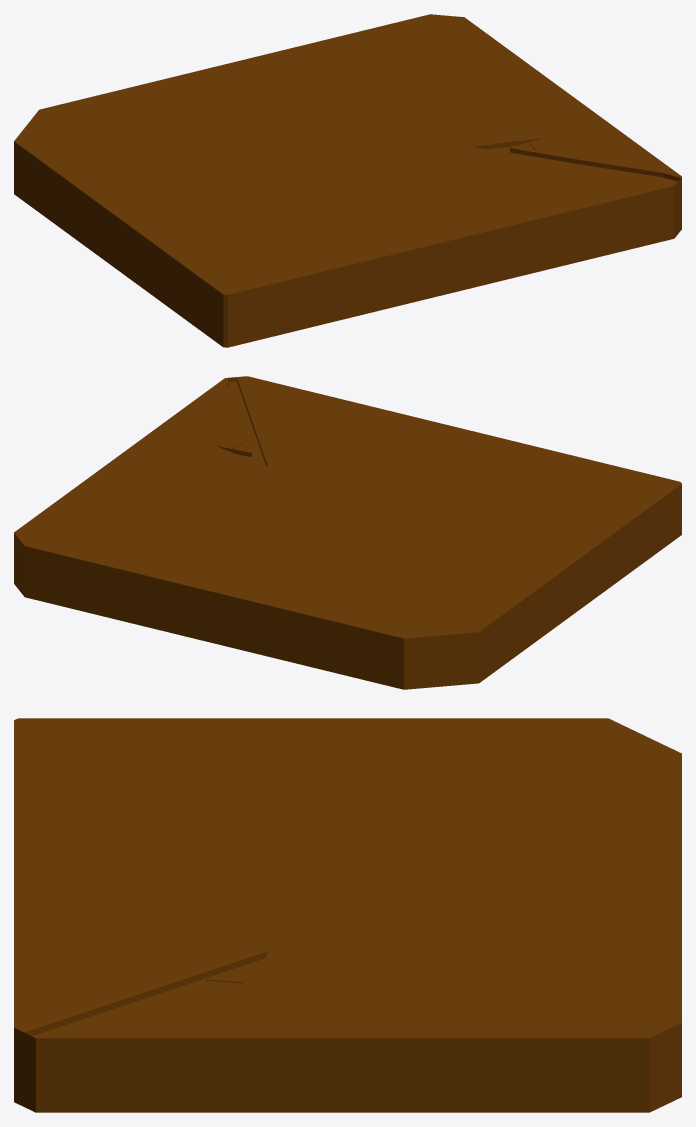
Rendered from plytklauszkodzona.fbx.
The picture shows the model from 3 angles, top to bottom: view 1: azimuth 30°, elevation 25°; view 2: azimuth 150°, elevation 25°; view 3: azimuth 270°, elevation 25°; orthographic projection. The views are drawn at different scales.
Parts seen in each view (by area): view 1: Cube; view 2: Cube; view 3: Cube.
Boxes of the visible parts, x1,y1,x2,y2 form: Cube: [14, 14, 681, 347]; Cube: [14, 376, 681, 689]; Cube: [14, 718, 681, 1112].
Bounding box in the file's own units: 119 × 13.04 × 105.
